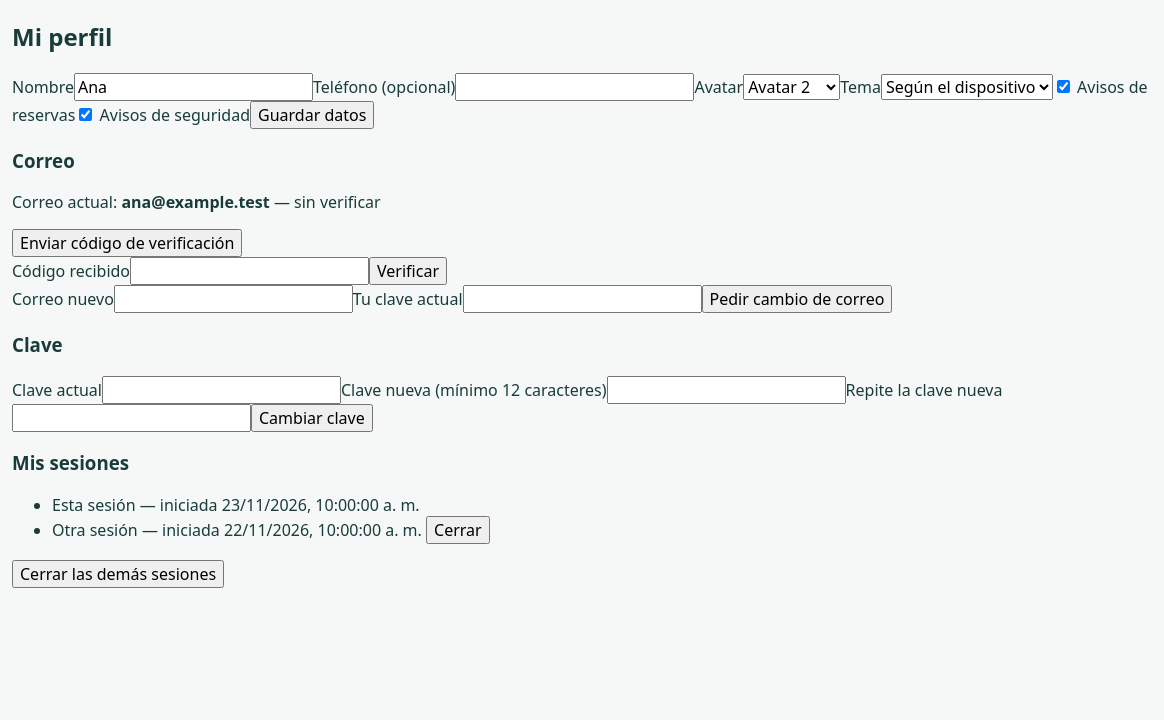
it: F01.1 US5: pantalla «Mi perfil» › un correo sin verificar ofrece pedir el código y verificarlo
Click the button "Enviar código de verificación" at (127, 243), box [12, 229, 242, 257]
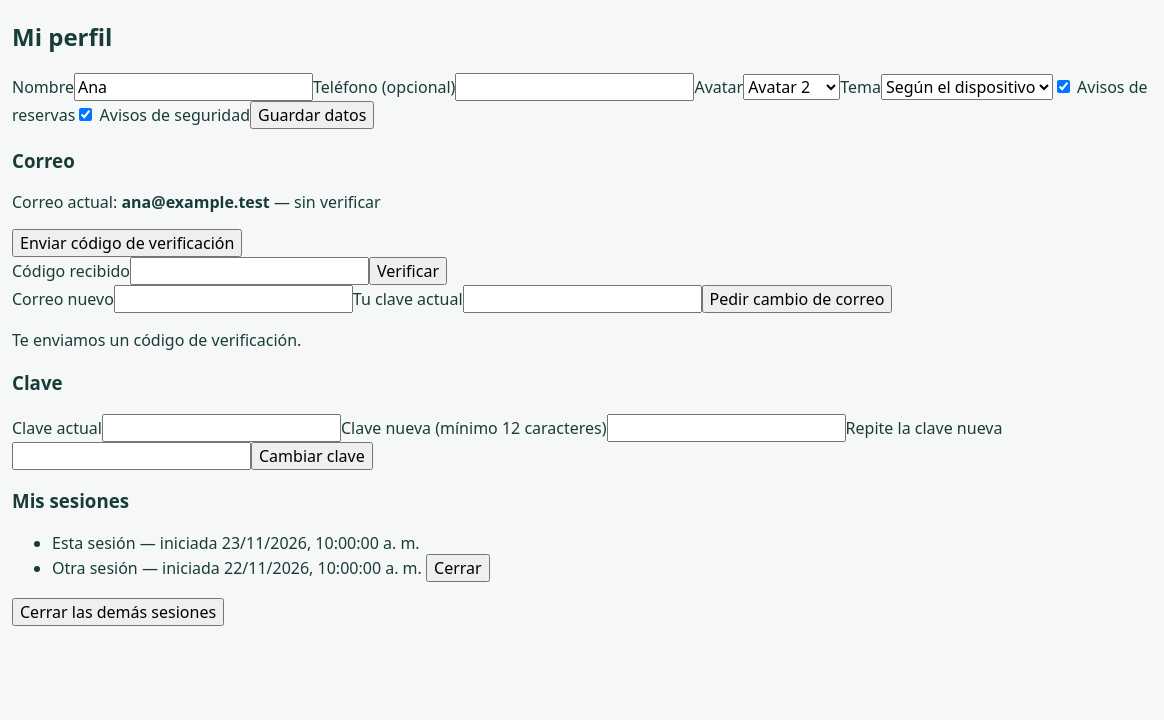
expect the text "Te enviamos un código de verificación." is shown: met, box [12, 329, 301, 351]
Type " ABC123 " into the field labelled "Código recibido" at (250, 271), box [130, 257, 369, 285]
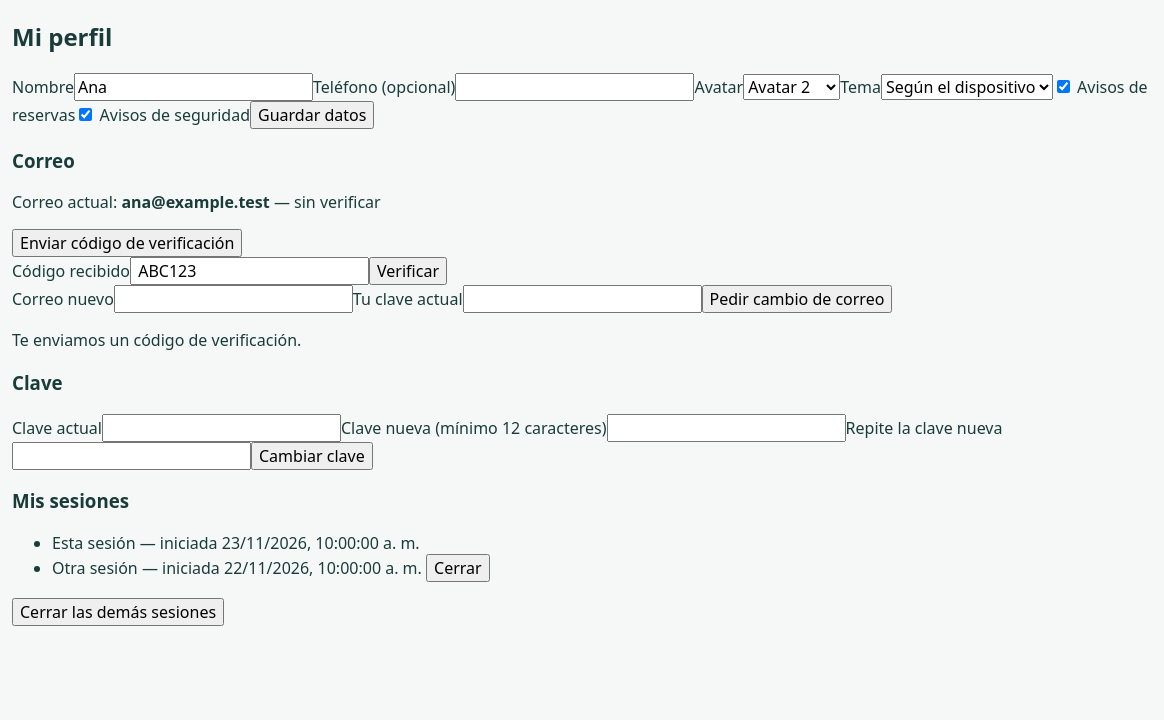
Submit the text "Verificar", box [12, 257, 447, 285]
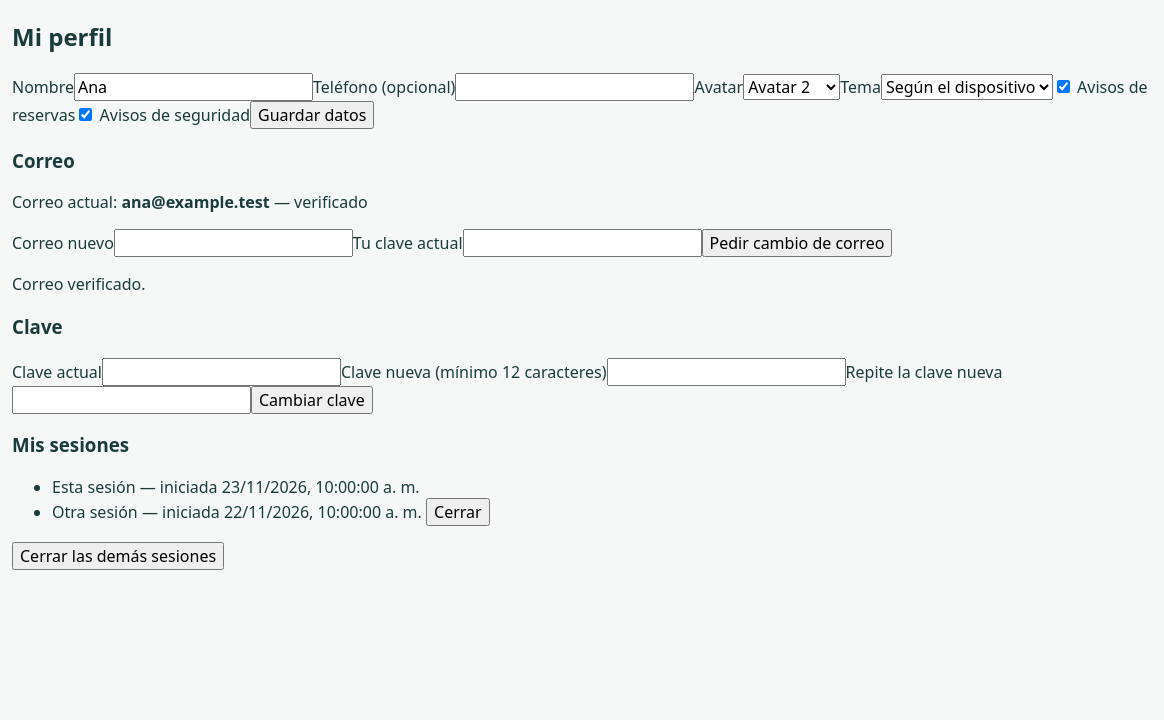
expect the text "Correo actual: ana@example.test — verificado" is shown: met, box [12, 191, 368, 213]
